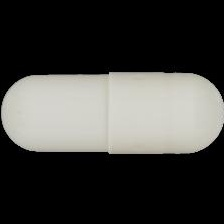48433-307: (0, 0, 224, 224)
